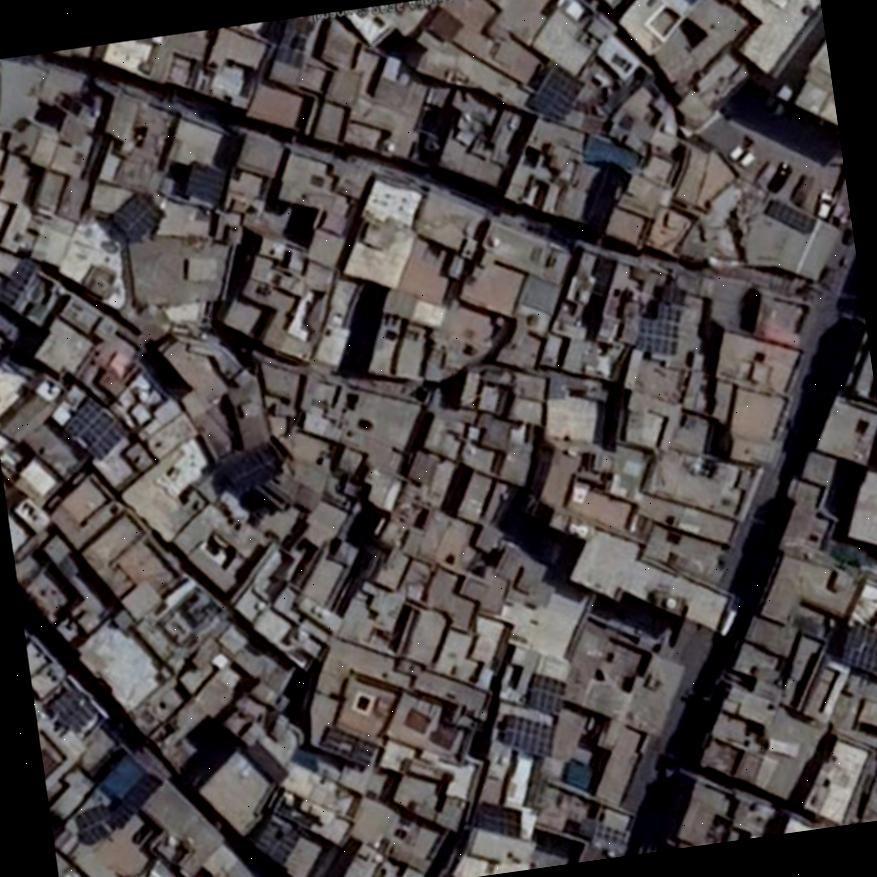Solarpanel: (62, 396, 126, 455), (528, 64, 582, 117), (634, 305, 678, 356), (116, 195, 160, 243), (502, 714, 551, 756), (841, 617, 877, 674), (525, 673, 566, 712)
